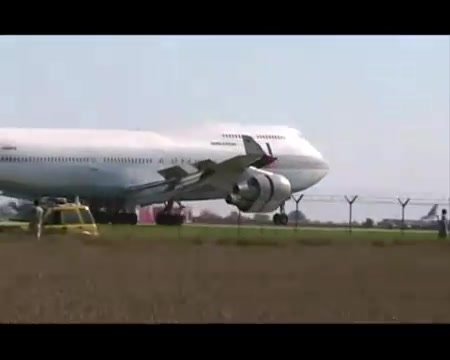aeroplane: (1, 122, 333, 226)
